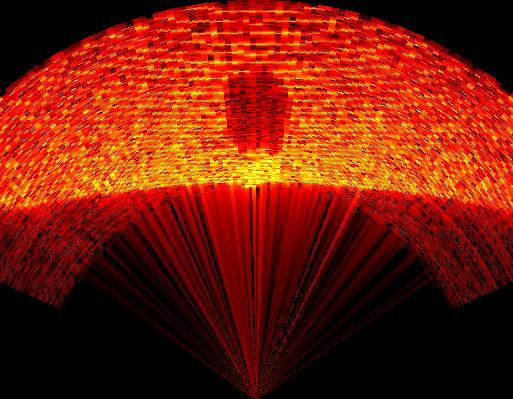box_crate: (224, 64, 288, 156)
